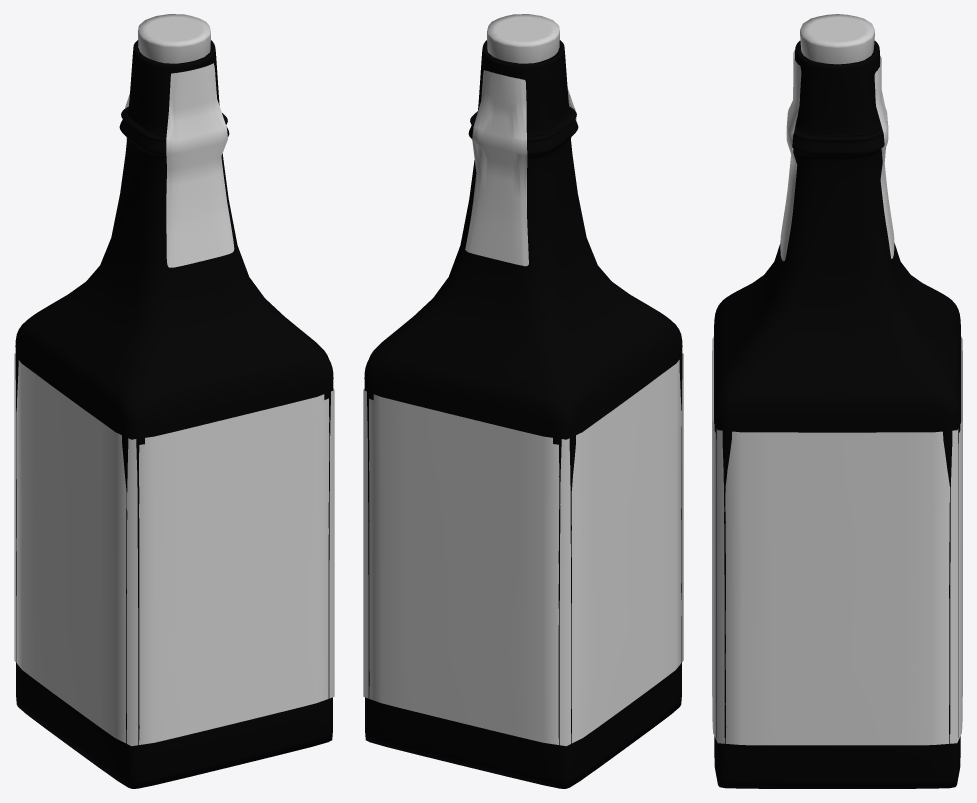
The model's file is BottleC_mdl.fbx.
3 views of the same model, side by side, from view 1: azimuth 30°, elevation 25°; view 2: azimuth 150°, elevation 25°; view 3: azimuth 270°, elevation 25° (orthographic). The views are drawn at different scales.
Parts seen in each view (by area): view 1: BottleC.001; view 2: BottleC.001; view 3: BottleC.001.
Part boxes in pixels (left/top/right/bottom): BottleC.001: left=14, top=14, right=334, bottom=788; BottleC.001: left=363, top=14, right=683, bottom=788; BottleC.001: left=712, top=14, right=962, bottom=788.
Size of the model in its own units: 8.42 by 26.23 by 8.42.
